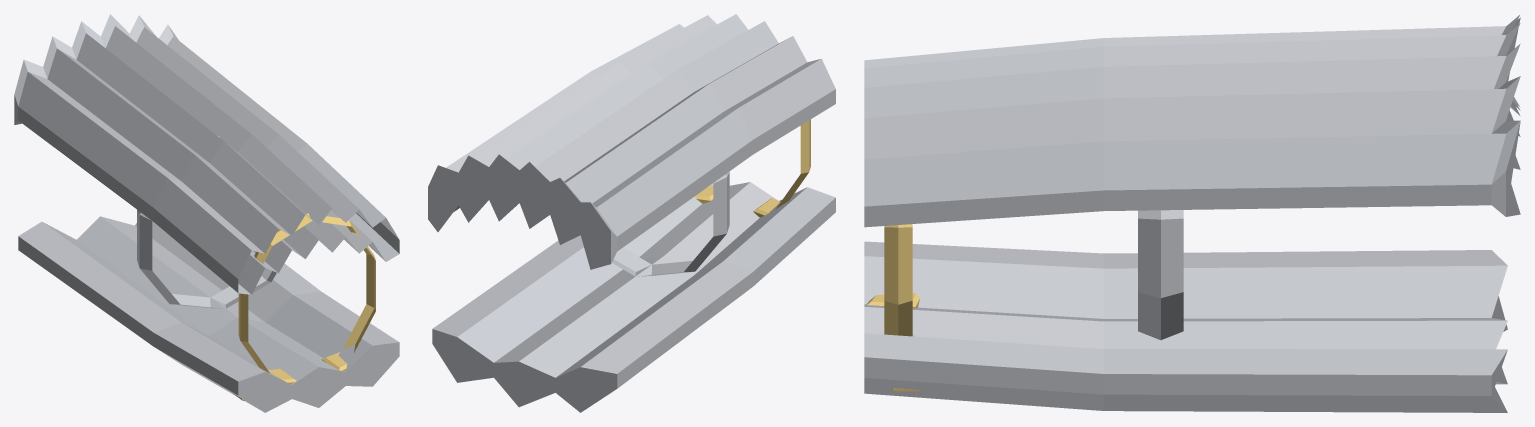
Rendered from cape_tabard.glb.
The picture shows the model from 3 angles, left to right: view 1: azimuth 30°, elevation 25°; view 2: azimuth 150°, elevation 25°; view 3: azimuth 270°, elevation 25°; orthographic projection. The views are drawn at different scales.
Parts seen in each view (by area): view 1: Torso, Cape1, Cape0, Abdomen; view 2: Torso, Cape1, Cape0, Abdomen; view 3: Torso, Cape1, Cape0, Abdomen.
Part boxes in pixels (left/top/right/bottom): Torso: left=18, top=213, right=399, bottom=412; Cape1: left=14, top=14, right=307, bottom=221; Cape0: left=153, top=134, right=399, bottom=294; Abdomen: left=137, top=136, right=276, bottom=308; Torso: left=432, top=119, right=835, bottom=412; Cape1: left=428, top=61, right=753, bottom=269; Cape0: left=590, top=14, right=835, bottom=154; Abdomen: left=580, top=171, right=729, bottom=276; Torso: left=864, top=224, right=1507, bottom=412; Cape1: left=1103, top=15, right=1520, bottom=216; Cape0: left=864, top=38, right=1103, bottom=227; Abdomen: left=1138, top=210, right=1183, bottom=340.
Size of the model in its own units: 0.52 by 0.6795 by 1.15.
